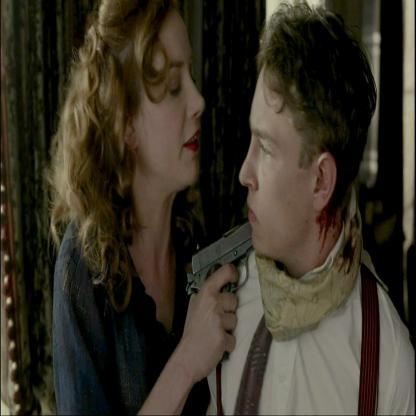gun: (173, 209, 258, 315)
